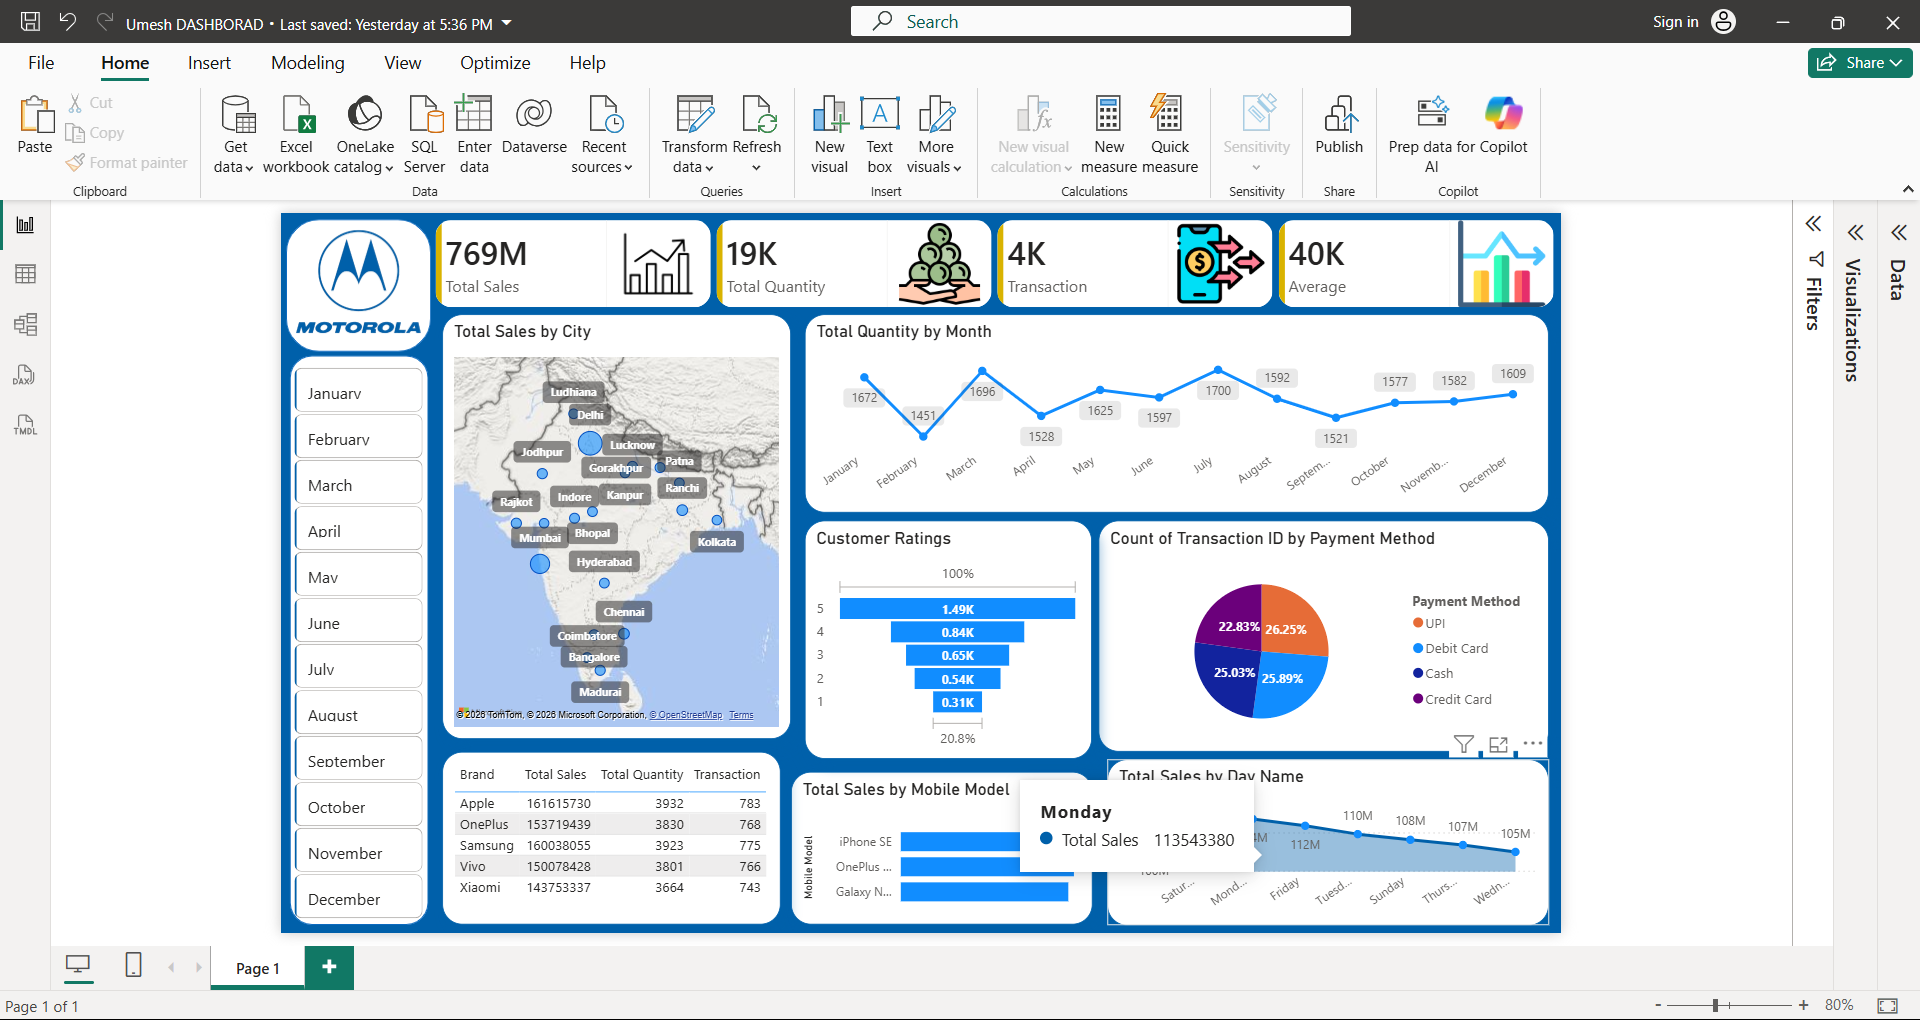

The dashboard page shown, as its layout file describes it:
{"tool":"powerbi","page":{"name":"Page 1","canvas":[1280,720],"ordinal":0},"visuals":[{"type":"shape","box":[5,6.2,145,132.5],"z":0},{"type":"image","box":[6.2,6.2,142.5,125],"z":1000},{"type":"shape","box":[8.4,142.4,138.7,569.4],"z":2000},{"type":"advancedSlicerVisual","fields":{"Values":["Sales data.Date.Variation.Date Hierarchy.Month"]},"box":[8.8,150,138.8,570],"z":3000},{"type":"cardVisual","fields":{"Data":["Sales data.Total Sales","Sales data.Total Quantity","Sales data.Transaction","Sales data.Average"]},"box":[147.5,0,1132.5,101.2],"z":4000},{"type":"map","fields":{"Category":["Sales data.City"],"Size":["Sales data.Total Sales"]},"box":[161.2,101.2,348.8,425],"z":5000},{"type":"lineChart","fields":{"Category":["Sales data.Date.Variation.Date Hierarchy.Month","Sales data.Date.Variation.Date Hierarchy.Day"],"Y":["Sales data.Total Quantity"]},"box":[523.8,101.2,743.8,198.8],"z":6000},{"type":"clusteredBarChart","fields":{"Category":["Sales data.Mobile Model"],"Y":["Sales data.Total Sales"]},"box":[510,558.8,301.2,152.5],"z":7000},{"type":"pieChart","fields":{"Category":["Sales data.Payment Method"],"Y":["CountNonNull(Sales data.Transaction ID)"]},"box":[817.5,307.5,450,231.2],"z":8000},{"type":"funnel","title":"Customer Ratings","fields":{"Category":["Sales data.Customer Ratings"],"Y":["CountNonNull(Sales data.Customer Ratings)"]},"box":[523.8,307.5,287.5,238.8],"z":9000},{"type":"areaChart","fields":{"Category":["Sales data.Day Name"],"Y":["Sales data.Total Sales"]},"box":[826.2,546.2,441.2,166.2],"z":10000},{"type":"tableEx","fields":{"Values":["Sales data.Brand","Sales data.Total Sales","Sales data.Total Quantity","Sales data.Transaction"]},"box":[161.2,538.8,338.8,172.5],"z":11000}]}

Visuals, with their boxes on the page's 1280x720 design canvas (x1, y1, x2, y2). These are canvas units, not pixel positions in the 1920x1020 screenshot, which may show the page scaled, cropped or inside an application window:
shape: [left=5, top=6, right=150, bottom=139]
image: [left=6, top=6, right=149, bottom=131]
shape: [left=8, top=142, right=147, bottom=712]
advancedSlicerVisual - Sales data.Date.Variation.Date Hierarchy.Month: [left=9, top=150, right=148, bottom=720]
cardVisual - Sales data.Total Sales x Sales data.Total Quantity: [left=148, top=0, right=1280, bottom=101]
map - Sales data.City x Sales data.Total Sales: [left=161, top=101, right=510, bottom=526]
lineChart - Sales data.Date.Variation.Date Hierarchy.Month x Sales data.Date.Variation.Date Hierarchy.Day: [left=524, top=101, right=1268, bottom=300]
clusteredBarChart - Sales data.Mobile Model x Sales data.Total Sales: [left=510, top=559, right=811, bottom=711]
pieChart - Sales data.Payment Method x CountNonNull(Sales data.Transaction ID): [left=818, top=308, right=1268, bottom=539]
"Customer Ratings" funnel: [left=524, top=308, right=811, bottom=546]
areaChart - Sales data.Day Name x Sales data.Total Sales: [left=826, top=546, right=1267, bottom=712]
tableEx - Sales data.Brand x Sales data.Total Sales: [left=161, top=539, right=500, bottom=711]
